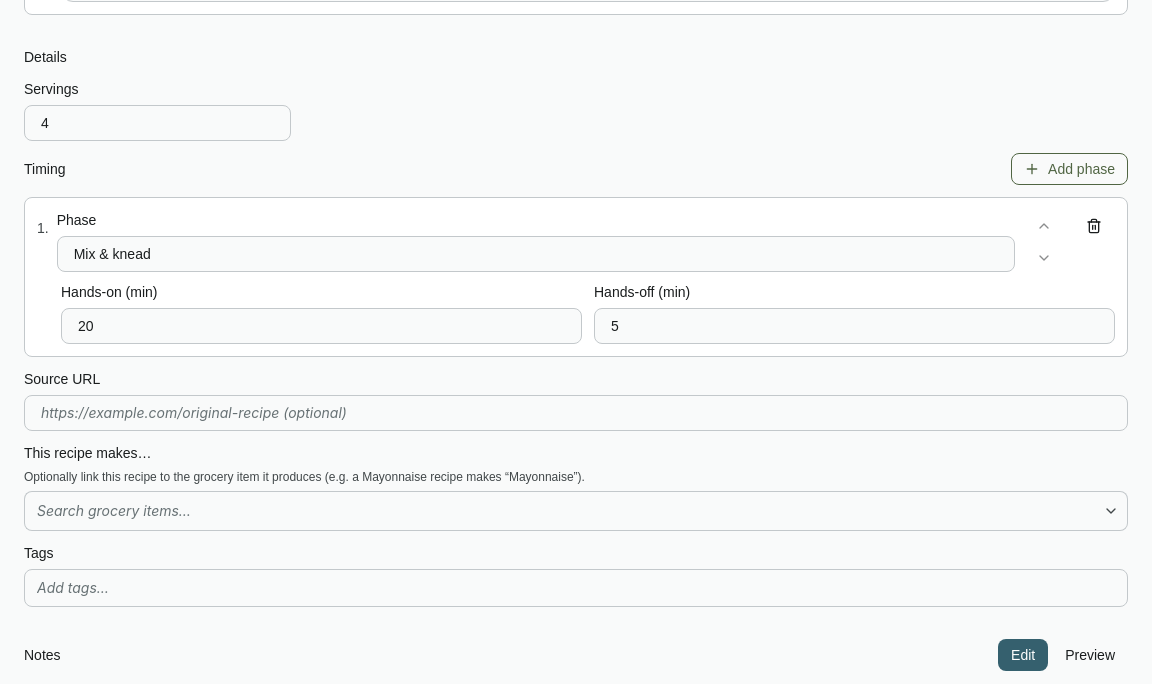
RecipeEditPage — the phase hands-on box › snaps back to the stored figure on blur
This screenshot has width=1152, height=684.
(page scrolled)
Clear the field with test id "recipe-phase-hands-on-input" at (322,326), box [78, 316, 565, 336]
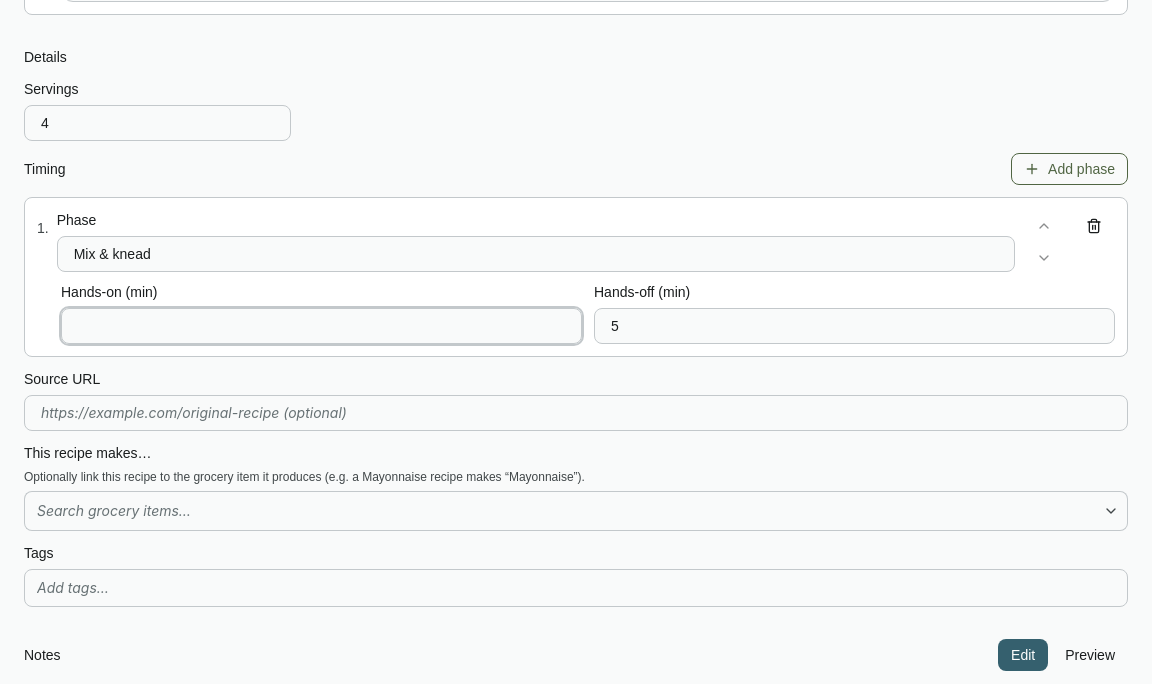
Press Tab
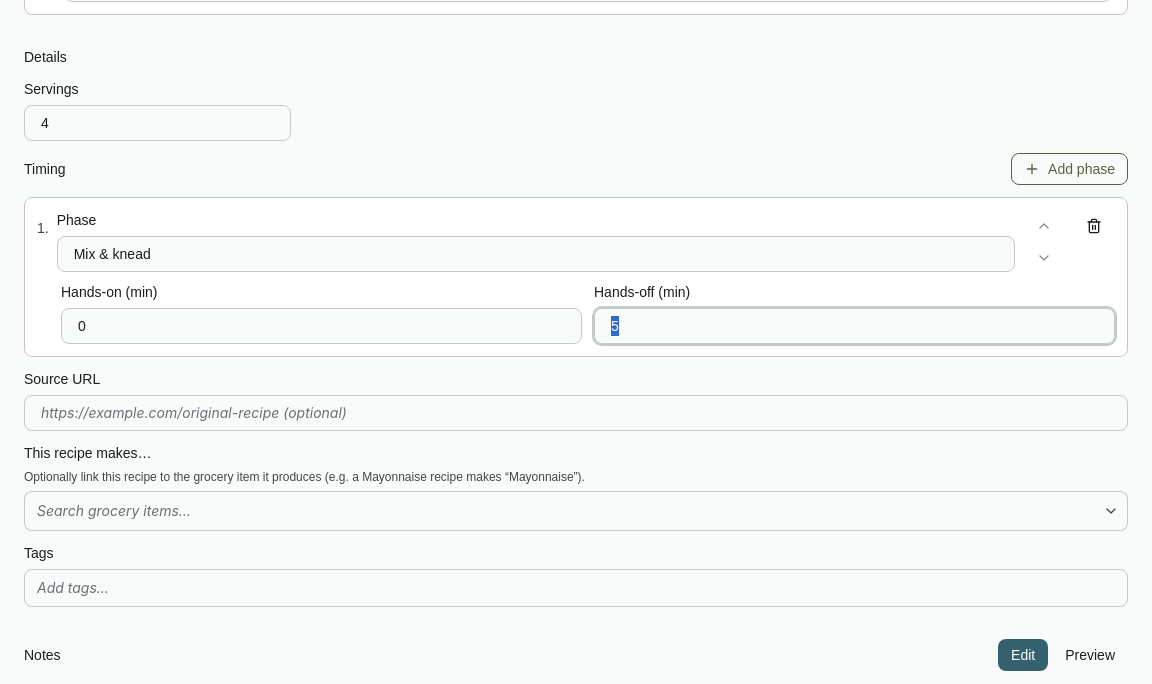
Expected: the field with test id "recipe-phase-hands-on-input" holds "0", [78, 316, 565, 336]
